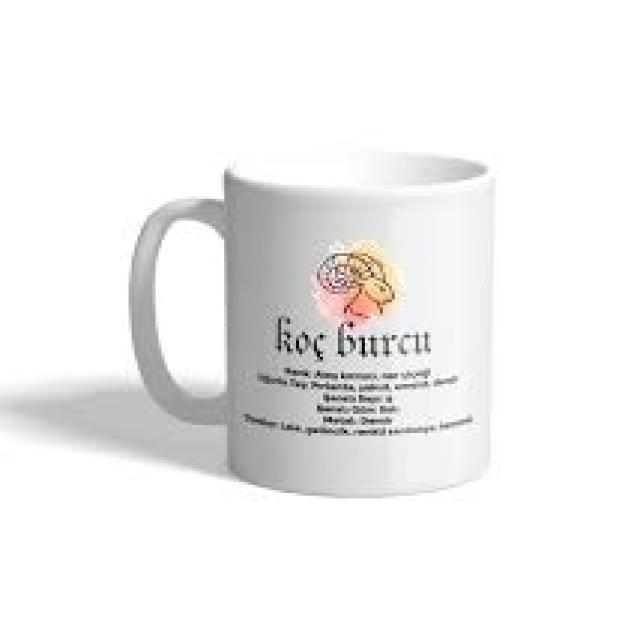taza: (128, 151, 494, 501)
